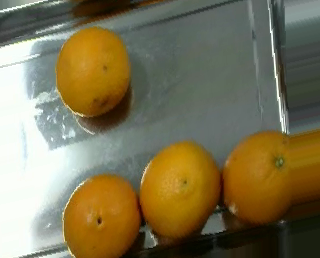Orange: (138, 140, 222, 239), (220, 129, 294, 223), (54, 27, 131, 117), (62, 173, 142, 257)
